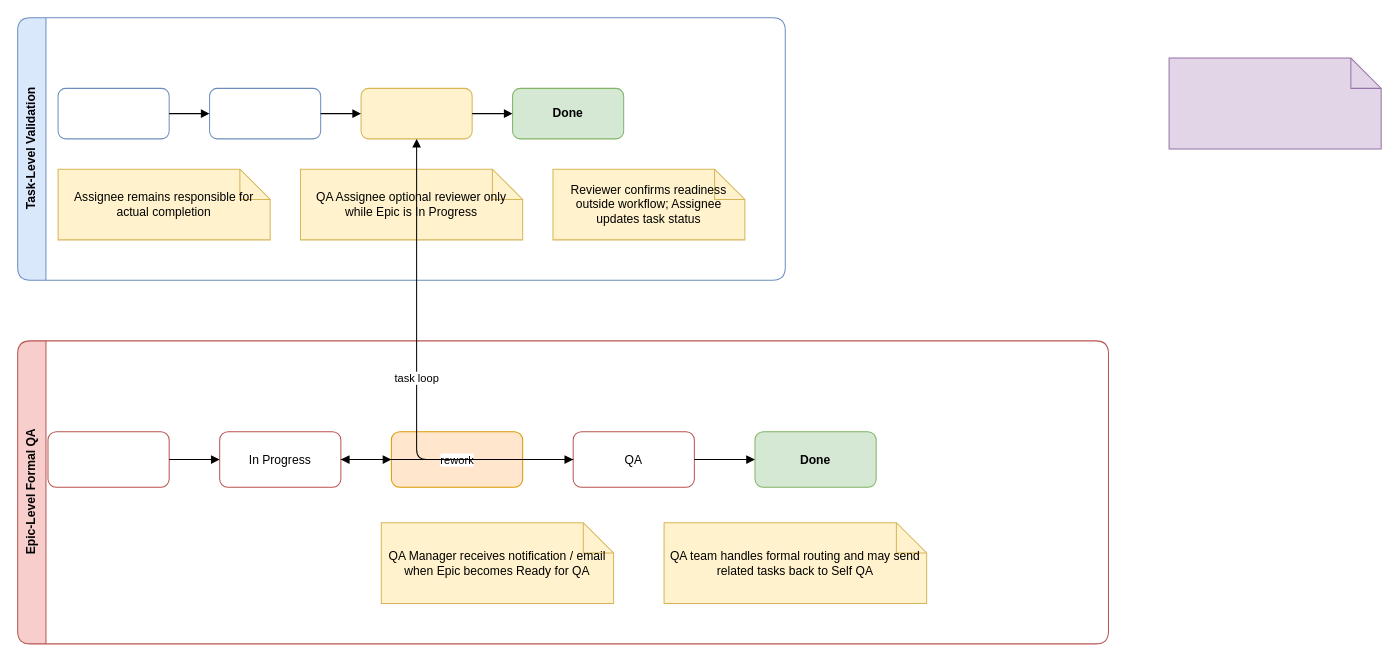
Some shapes in this 1399 by 662 pixel diagram are drawn without their labels. The centre of each missing label's shape, as x and y in pixels:
InProgress: point 265,113
New: point 113,113
Open: point 108,459
Ready for QA: point 456,459
Self QA: point 416,113
Status spelling is intentional: Task = InProgress Epic = In Progress: point 1274,103
